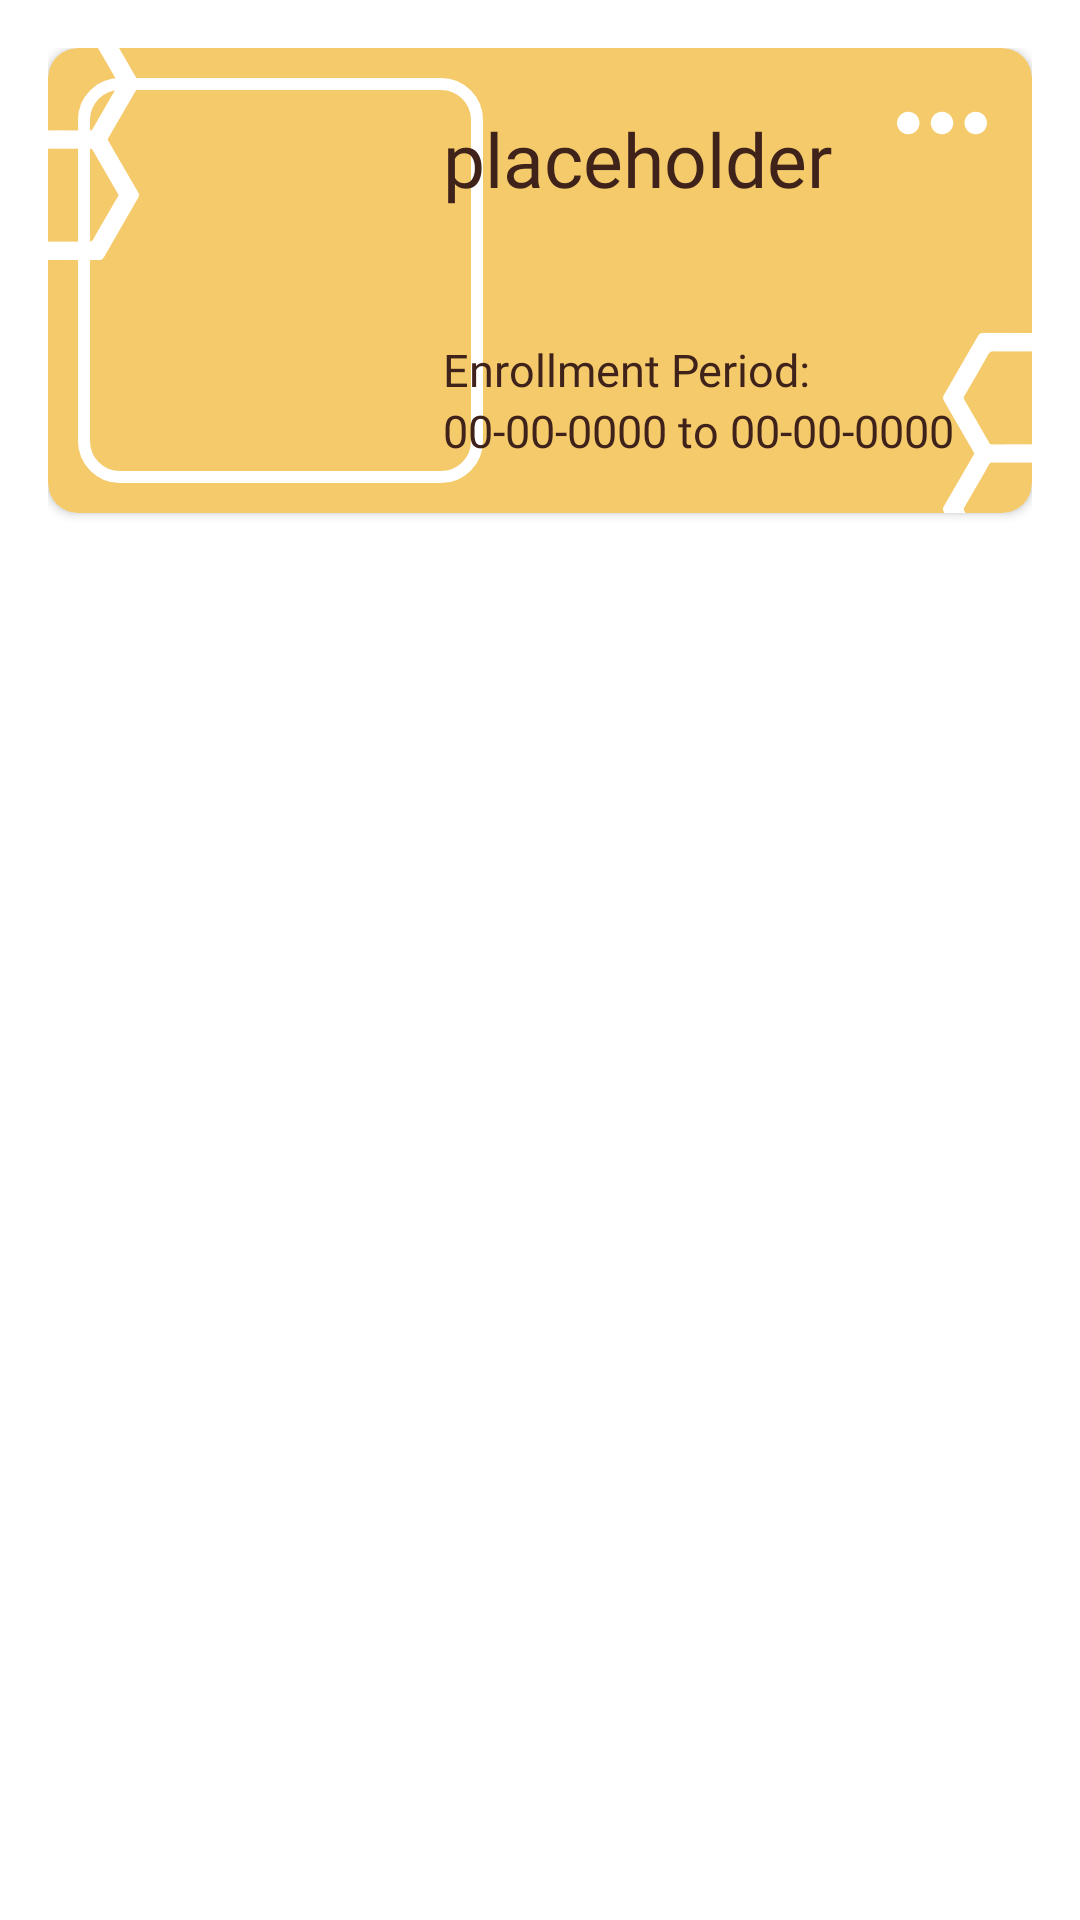

Icons on this 1080px×1920px Android screen, each with its box as (x1, y1, x2, y2):
dots horizontal: (897, 111, 987, 135)
